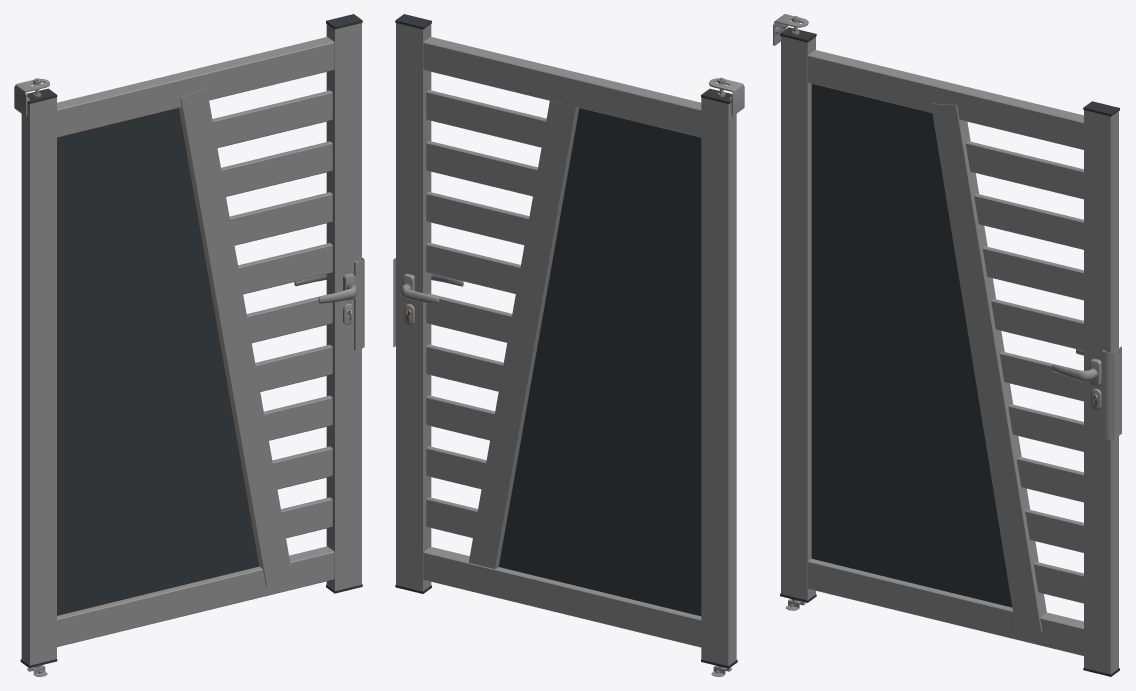
3 renders of one model, left to right at view 1: azimuth 30°, elevation 25°; view 2: azimuth 150°, elevation 25°; view 3: azimuth 330°, elevation 25°, orthographic.
Parts seen in each view (by area): view 1: Chapa Alucobond002, Shape107412643, Shape107412638, Shape332, Shape107411740, Shape107411741, Shape343, Shape342, Shape341, Shape340, Shape339, Shape338 (+5 smaller); view 2: Chapa Alucobond002, Shape107412643, Shape107412638, Shape332, Shape107411740, Shape107411741, Shape343, Shape342, Shape341, Shape340, Shape339, Shape338 (+4 smaller); view 3: Chapa Alucobond002, Shape107412638, Shape107412643, Shape332, Shape107411740, Shape107411741, Shape343, Shape342, Shape341, Shape340, Shape338, Shape339 (+4 smaller).
Boxes of the visible parts, x1,y1,x2,y2 form: Chapa Alucobond002: [57, 108, 259, 615]; Shape107412643: [21, 97, 56, 665]; Shape107412638: [326, 23, 361, 590]; Shape332: [179, 87, 292, 586]; Shape107411740: [57, 37, 334, 137]; Shape107411741: [57, 546, 334, 646]; Shape343: [212, 90, 332, 147]; Shape342: [221, 141, 332, 196]; Shape341: [229, 192, 332, 245]; Shape340: [238, 243, 332, 294]; Shape339: [246, 294, 332, 342]; Shape338: [255, 344, 332, 391]; Chapa Alucobond002: [498, 108, 701, 616]; Shape107412643: [701, 97, 736, 665]; Shape107412638: [396, 23, 431, 591]; Shape332: [469, 101, 579, 568]; Shape107411740: [423, 37, 701, 137]; Shape107411741: [423, 547, 701, 647]; Shape343: [426, 90, 546, 147]; Shape342: [426, 141, 537, 196]; Shape341: [426, 191, 529, 244]; Shape340: [426, 242, 520, 293]; Shape339: [426, 293, 512, 342]; Shape338: [426, 344, 503, 391]; Chapa Alucobond002: [811, 84, 1012, 607]; Shape107412638: [1084, 110, 1118, 674]; Shape107412643: [781, 36, 815, 600]; Shape332: [931, 103, 1046, 631]; Shape107411740: [808, 50, 1083, 149]; Shape107411741: [808, 558, 1083, 655]; Shape343: [965, 141, 1083, 199]; Shape342: [974, 193, 1083, 249]; Shape341: [982, 246, 1083, 300]; Shape340: [991, 299, 1083, 350]; Shape338: [1008, 404, 1083, 451]; Shape339: [999, 351, 1083, 401].
Size of the model in its own units: 1015 by 1688 by 152.
Materials: 7 (4 with a texture image).
